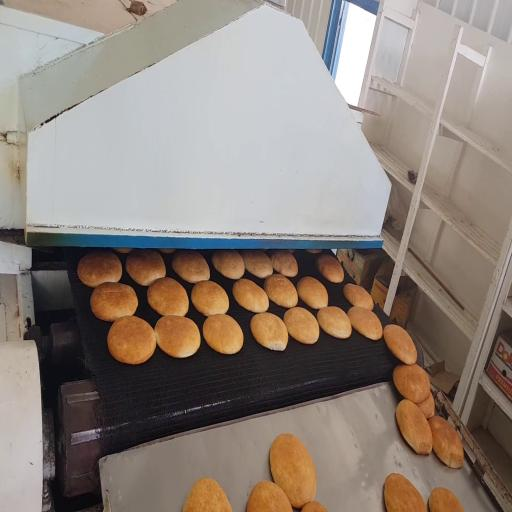bread: (270, 434, 316, 508), (108, 316, 156, 364), (396, 400, 432, 454), (155, 316, 200, 357), (90, 283, 138, 321), (428, 416, 463, 468), (147, 277, 189, 316), (203, 314, 243, 354), (183, 479, 232, 511), (384, 474, 426, 511), (78, 252, 122, 287), (393, 365, 430, 404), (126, 250, 166, 286), (251, 313, 288, 350), (247, 481, 292, 511), (191, 281, 229, 316), (384, 324, 417, 364), (284, 307, 319, 344), (233, 279, 269, 312), (172, 251, 209, 283), (264, 274, 298, 308), (347, 307, 382, 340), (317, 307, 351, 338), (297, 277, 328, 309), (212, 250, 245, 279), (242, 250, 273, 278), (429, 488, 464, 511), (317, 254, 344, 283), (270, 250, 298, 277), (344, 284, 373, 310), (418, 393, 435, 419), (302, 502, 327, 511), (115, 248, 132, 254), (160, 249, 176, 254), (307, 249, 322, 253), (288, 249, 295, 253)
